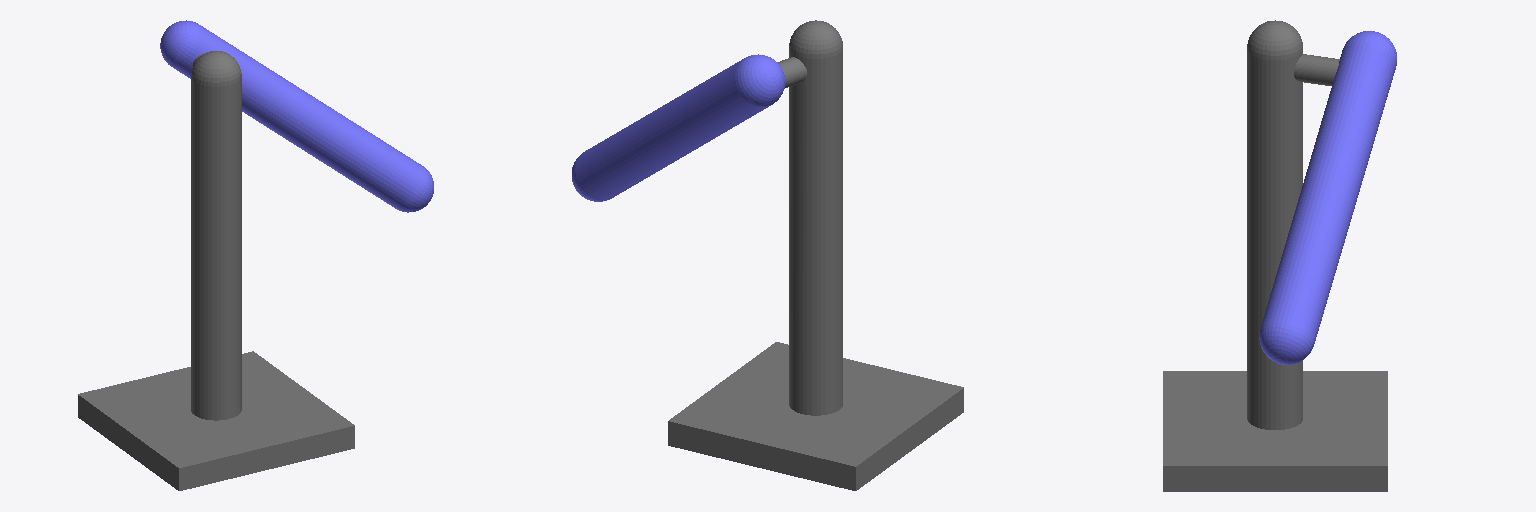
The robot description file, URDF, robot "small_bot":
<?xml version="1.0" encoding="utf-8"?>
<!-- This URDF was automatically created by SolidWorks to URDF Exporter! Originally created by [author] ([email redacted]) 
     Commit Version: 1.6.0-1-g15f4949  Build Version: 1.6.7594.29634
     For more information, please see http://wiki.ros.org/sw_urdf_exporter -->
<robot
  name="small_bot">
  <link
    name="base_link">
    <inertial>
      <origin
        xyz="0.13684 0.11966 0.2484"
        rpy="0 0 0" />
      <mass
        value="3.5218" />
      <inertia
        ixx="0.028345"
        ixy="2.7288E-19"
        ixz="-1.7377E-19"
        iyy="0.055839"
        iyz="2.2243E-19"
        izz="0.028345" />
    </inertial>
    <visual>
      <origin
        xyz="0 0 0"
        rpy="0 0 0" />
      <geometry>
        <mesh
          filename="package://small_bot/meshes/base_link.STL" />
      </geometry>
      <material
        name="">
        <color
          rgba="0.49804 0.49804 0.49804 1" />
      </material>
    </visual>
    <collision>
      <origin
        xyz="0 0 0"
        rpy="0 0 0" />
      <geometry>
        <mesh
          filename="package://small_bot/meshes/base_link.STL" />
      </geometry>
    </collision>
  </link>
  <link
    name="Link1">
    <inertial>
      <origin
        xyz="0.0029801 0.3076 -1.501E-08"
        rpy="0 0 0" />
      <mass
        value="2.8813" />
      <inertia
        ixx="0.089865"
        ixy="-0.0020663"
        ixz="1.1533E-09"
        iyy="0.0027566"
        iyz="1.4071E-08"
        izz="0.090604" />
    </inertial>
    <visual>
      <origin
        xyz="0 0 0"
        rpy="0 0 0" />
      <geometry>
        <mesh
          filename="package://small_bot/meshes/Link1.STL" />
      </geometry>
      <material
        name="">
        <color
          rgba="0.49804 0.49804 0.49804 1" />
      </material>
    </visual>
    <collision>
      <origin
        xyz="0 0 0"
        rpy="0 0 0" />
      <geometry>
        <mesh
          filename="package://small_bot/meshes/Link1.STL" />
      </geometry>
    </collision>
  </link>
  <joint
    name="Joint1"
    type="revolute">
    <origin
      xyz="0.13684 -0.2484 0.1199"
      rpy="1.5708 0 1.2399" />
    <parent
      link="base_link" />
    <child
      link="Link1" />
    <axis
      xyz="0 1 0" />
    <limit
      lower="0"
      upper="0"
      effort="0"
      velocity="0" />
  </joint>
  <link
    name="Link2">
    <inertial>
      <origin
        xyz="0.12736 -0.19158 2.3346E-08"
        rpy="0 0 0" />
      <mass
        value="2.202" />
      <inertia
        ixx="0.042995"
        ixy="-0.00015156"
        ixz="1.7226E-09"
        iyy="0.0015715"
        iyz="-7.256E-09"
        izz="0.042979" />
    </inertial>
    <visual>
      <origin
        xyz="0 0 0"
        rpy="0 0 0" />
      <geometry>
        <mesh
          filename="package://small_bot/meshes/Link2.STL" />
      </geometry>
      <material
        name="">
        <color
          rgba="0.50196 0.50196 1 1" />
      </material>
    </visual>
    <collision>
      <origin
        xyz="0 0 0"
        rpy="0 0 0" />
      <geometry>
        <mesh
          filename="package://small_bot/meshes/Link2.STL" />
      </geometry>
    </collision>
  </link>
  <joint
    name="Joint2"
    type="revolute">
    <origin
      xyz="0 0.54824 0"
      rpy="-0.91174 0 0" />
    <parent
      link="Link1" />
    <child
      link="Link2" />
    <axis
      xyz="1 0 0" />
    <limit
      lower="0"
      upper="0"
      effort="0"
      velocity="0" />
  </joint>
</robot>

--- Render facts (derived) ---
3 views of the same robot in one strip: view 1: azimuth 30°, elevation 25°; view 2: azimuth 150°, elevation 25°; view 3: azimuth 270°, elevation 25° (orthographic).
Model small_bot with 3 links and 2 joints (2 revolute), rooted at base_link, posed every joint at zero.
Links seen in each view (by area): view 1: base_link, Link1, Link2; view 2: base_link, Link1, Link2; view 3: base_link, Link1, Link2.
Link boxes in pixels (x1,y1,x2,y2): base_link: (78, 351, 354, 490); Link1: (191, 51, 241, 420); Link2: (160, 20, 433, 212); base_link: (668, 342, 963, 490); Link1: (778, 20, 842, 415); Link2: (572, 54, 784, 201); base_link: (1163, 371, 1387, 491); Link1: (1247, 20, 1339, 429); Link2: (1259, 31, 1396, 364).
Bounding box of the posed robot: 0.5336 × 0.3177 × 0.6286 m (x, y, z).
Meshes: 3 distinct files referenced, 3 mesh visuals loaded (3 binary STL).